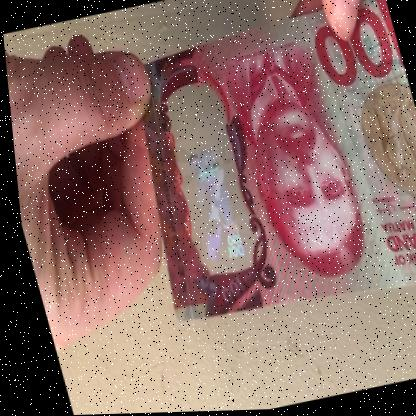100F: (159, 93, 246, 272)
